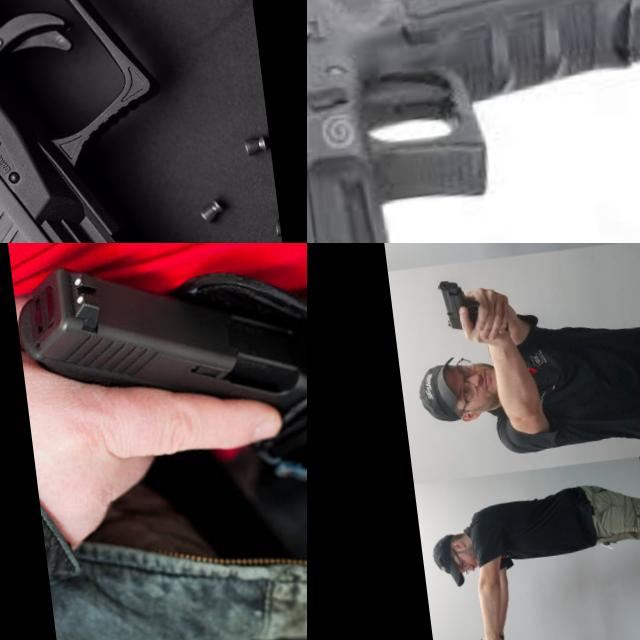handgun: (307, 0, 640, 243), (10, 243, 307, 457), (0, 0, 203, 243), (433, 272, 483, 334), (408, 243, 430, 260)
